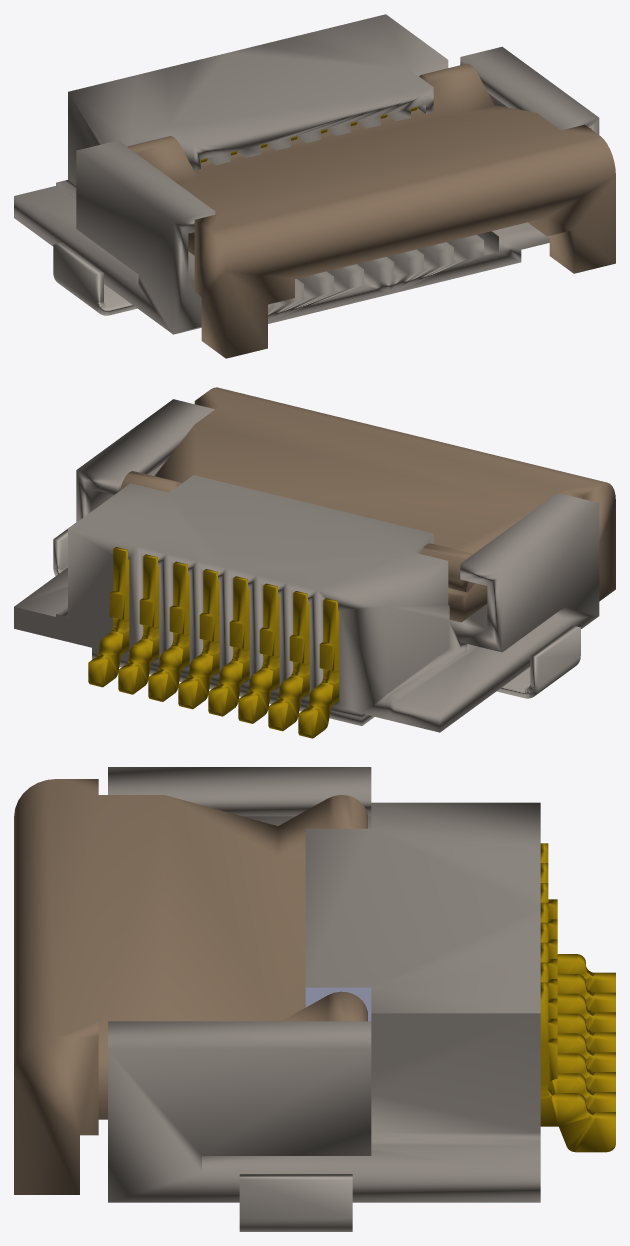
The picture shows the model from 3 angles, top to bottom: view 1: azimuth 30°, elevation 25°; view 2: azimuth 150°, elevation 25°; view 3: azimuth 270°, elevation 25°; orthographic projection. The views are drawn at different scales.
Parts seen in each view (by area): view 1: =>[0:1:1:3]; view 2: =>[0:1:1:3]; view 3: =>[0:1:1:3].
Boxes of the visible parts, bbox=[...] form: =>[0:1:1:3]: bbox=[14, 14, 615, 358]; =>[0:1:1:3]: bbox=[14, 387, 615, 738]; =>[0:1:1:3]: bbox=[14, 767, 615, 1231].
Bounding box in the file's own units: 0.0081 × 0.002 × 0.0064.
